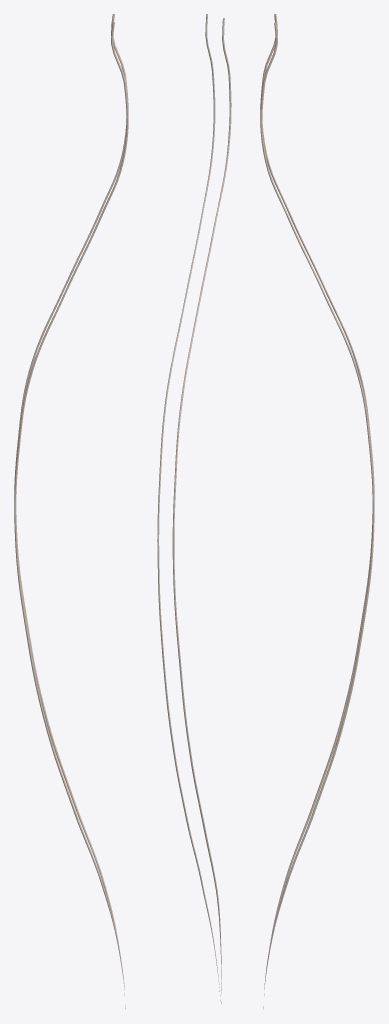
The model's file is nervoso-spinal-reticular-process.glb.
The picture shows the model from 3 angles, left to right: view 1: azimuth 90°, elevation 25°; view 2: azimuth 150°, elevation 25°; view 3: azimuth 270°, elevation 25°; orthographic projection.
Visible parts, largest first — view 1: Spinal reticular process; view 2: Spinal reticular process; view 3: Spinal reticular process.
Boxes of the visible parts, left/top/right/bottom form: Spinal reticular process: left=14, top=14, right=128, bottom=1008; Spinal reticular process: left=157, top=14, right=231, bottom=1003; Spinal reticular process: left=260, top=14, right=374, bottom=1009.
Size of the model in its own units: 0.00939 by 0.4898 by 0.0513.
